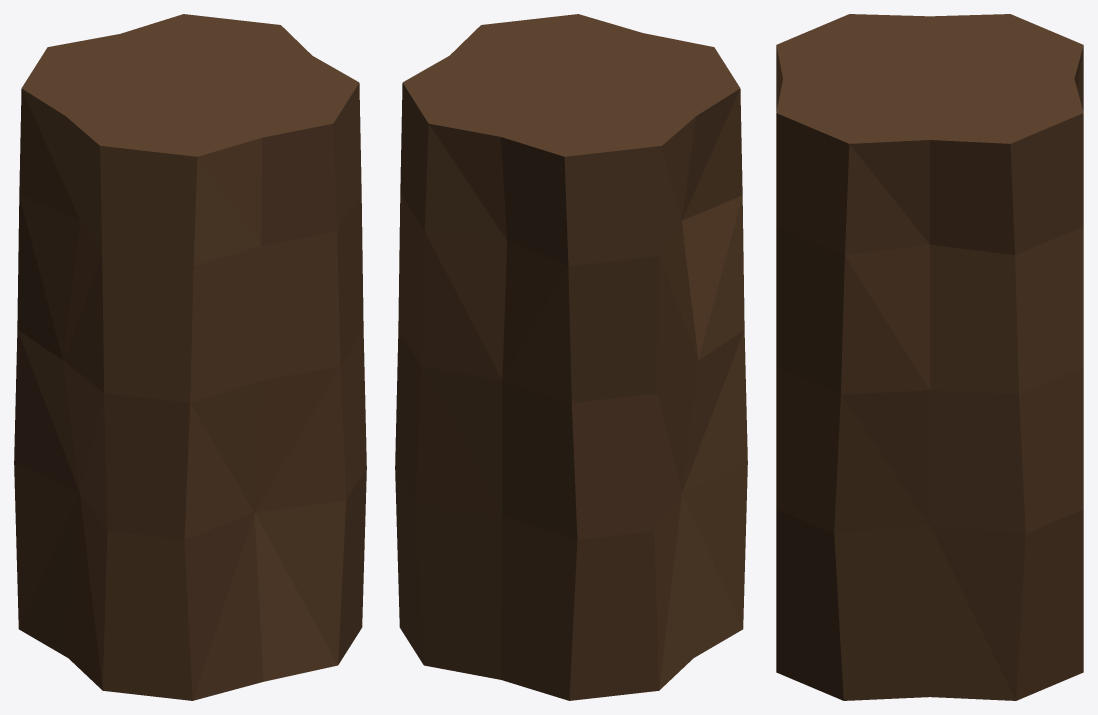
The model's file is Section_2.glb.
The picture shows the model from 3 angles, left to right: view 1: azimuth 30°, elevation 25°; view 2: azimuth 150°, elevation 25°; view 3: azimuth 270°, elevation 25°; orthographic projection. The views are drawn at different scales.
Visible parts, largest first — view 1: Section; view 2: Section; view 3: Section.
Boxes of the visible parts, x1=… form: Section: x1=14, y1=14, x2=366, y2=700; Section: x1=395, y1=14, x2=747, y2=700; Section: x1=776, y1=14, x2=1083, y2=700.
Size of the model in its own units: 2.6 by 5.2 by 2.6.
